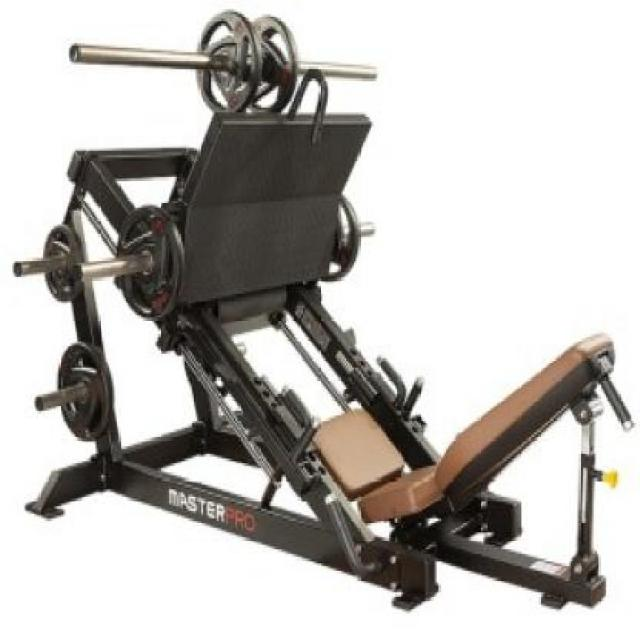leg press: (6, 4, 639, 618)
